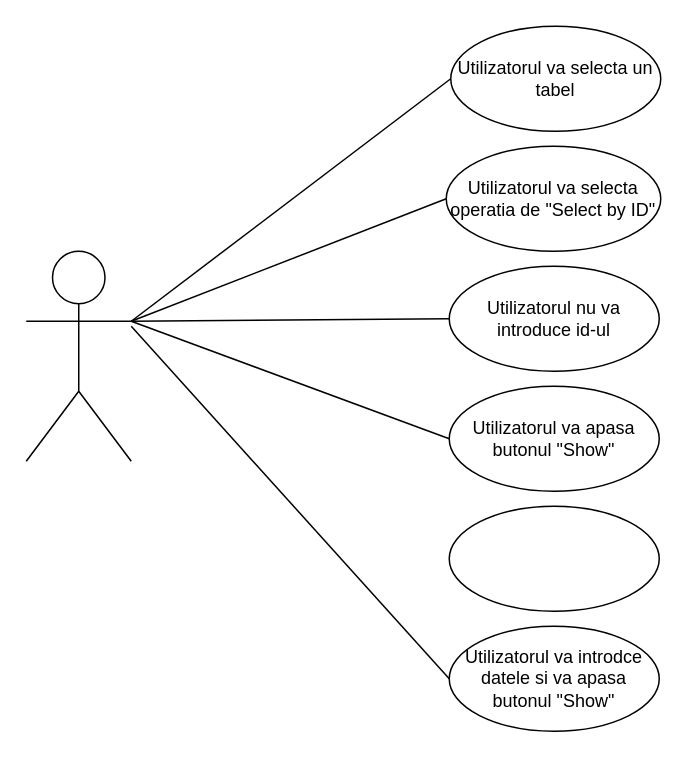
Some shapes in this 687 by 758 pixel diagram are drawn without their labels. The shapes that lost their labels are listed below. From the top down, each one's box as (x1, y1, x2, y2) in pixels, then its label:
(25, 250, 131, 461): Actor
(448, 505, 659, 611): Se va afisa un mesaj de eroare
